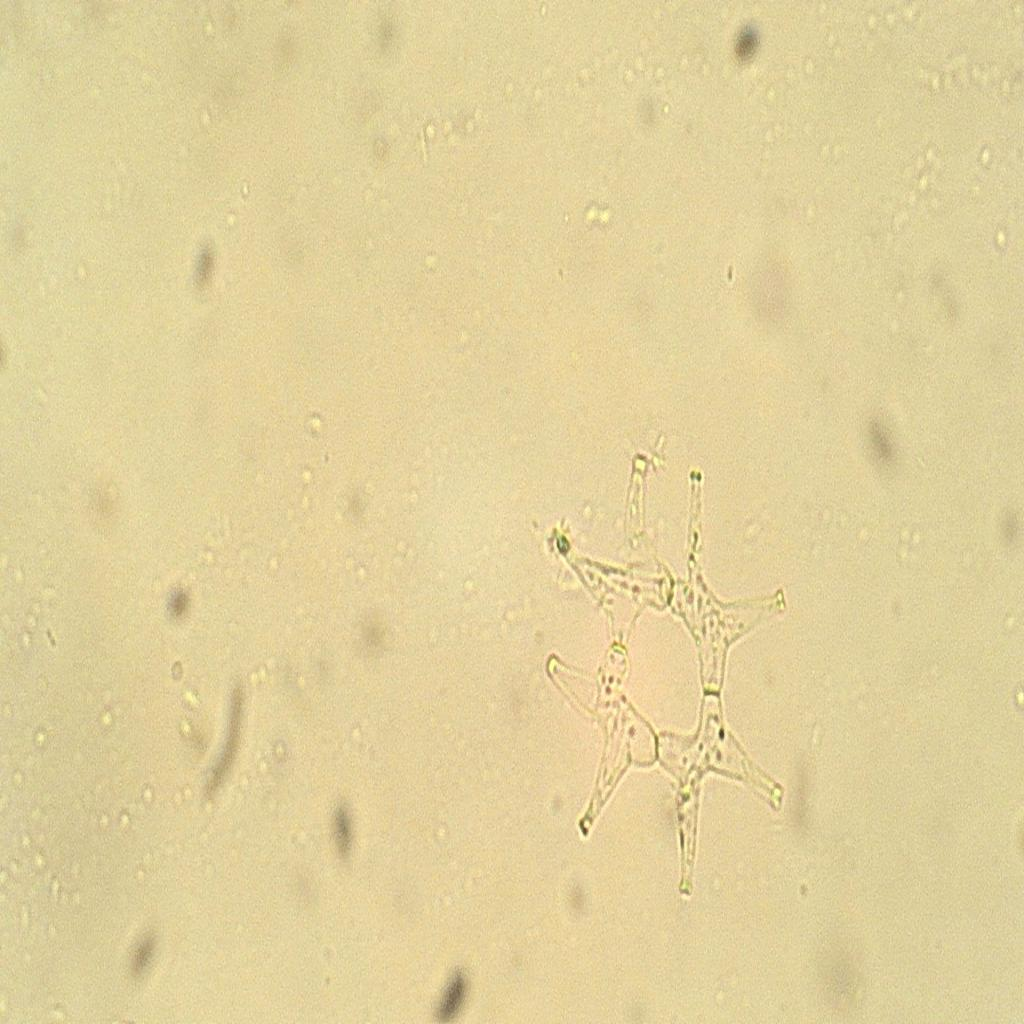Pediastrum_1F0: (530, 418, 799, 931)
